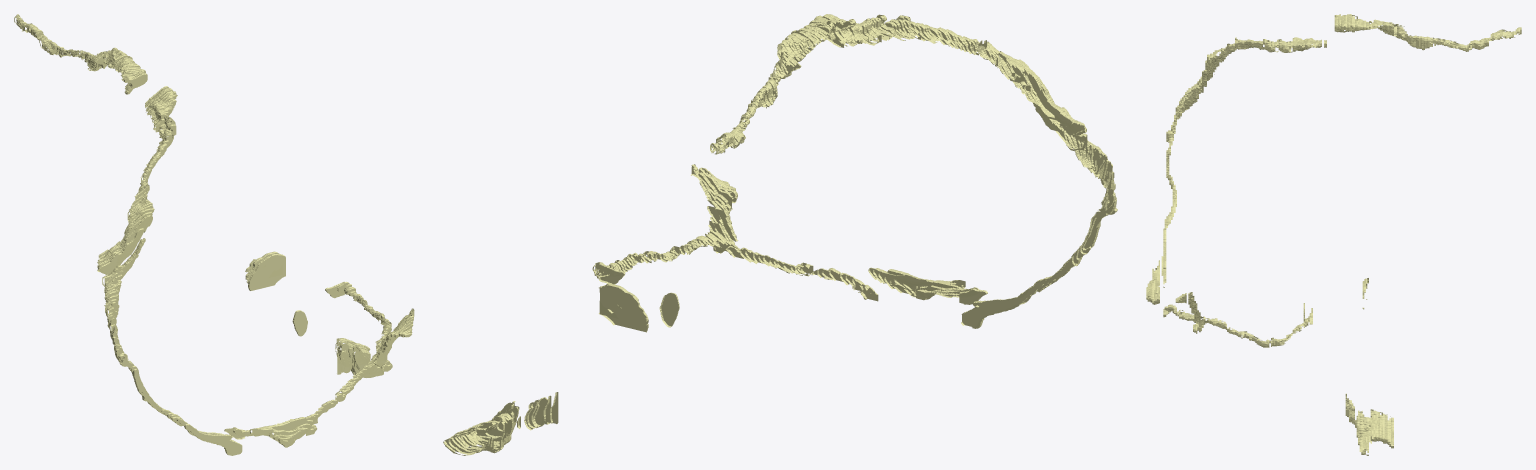
File: SketchVolumeViewer_SAAVR_SAAVR_1_1_0000_draco.gltf
The picture shows the model from 3 angles, left to right: view 1: azimuth 30°, elevation 25°; view 2: azimuth 150°, elevation 25°; view 3: azimuth 270°, elevation 25°; orthographic projection. The views are drawn at different scales.
Visible parts, largest first — view 1: SAAVR; view 2: SAAVR; view 3: SAAVR.
Part boxes in pixels (x1,y1,x2,y2): SAAVR: (14, 14, 414, 455); SAAVR: (443, 14, 1117, 455); SAAVR: (1146, 14, 1521, 455).
Size of the model in its own units: 14796 by 13972 by 14456.
